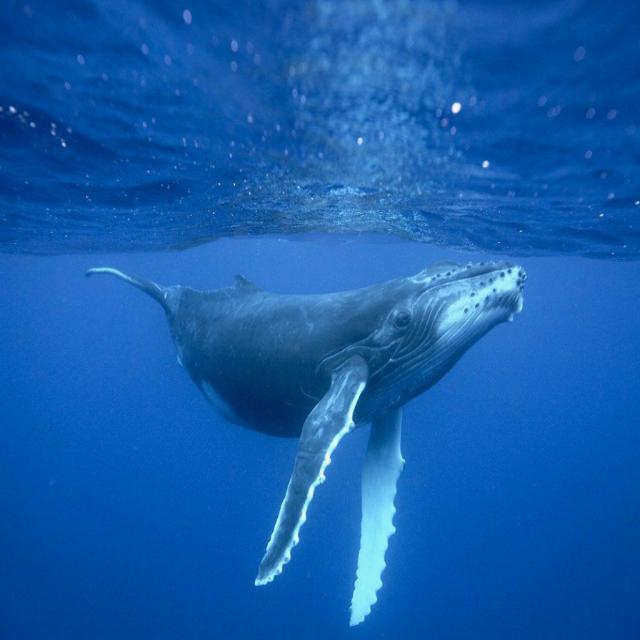whale: (86, 263, 526, 625)
